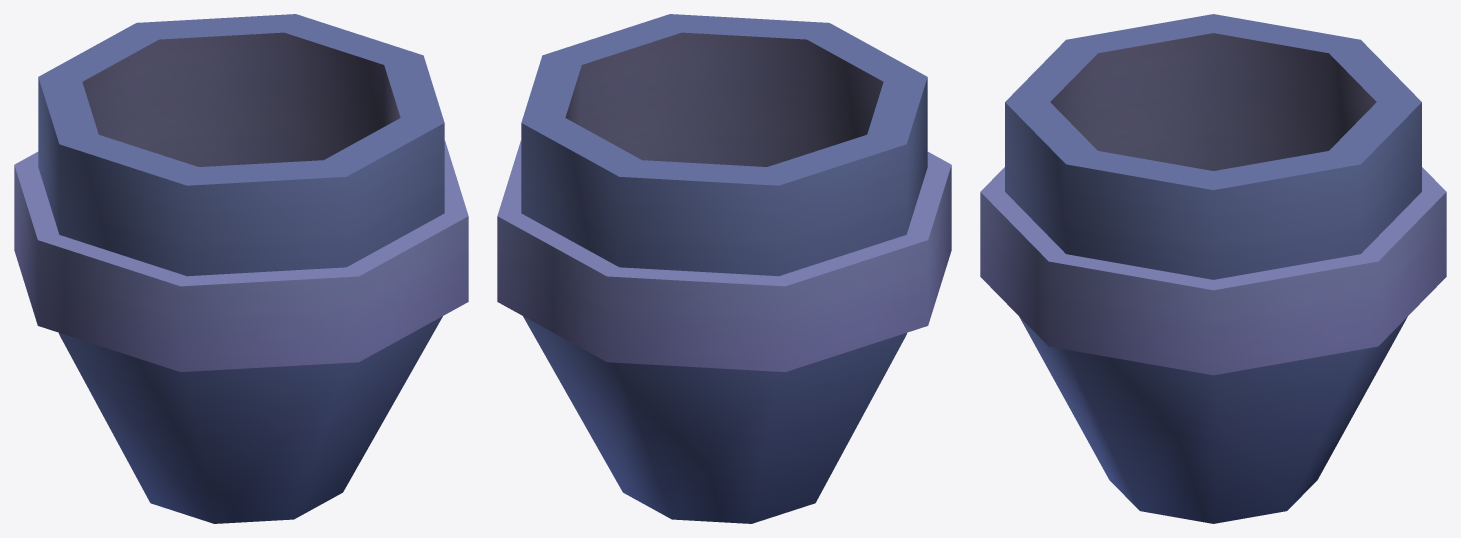
Rendered from tratt.glb.
The picture shows the model from 3 angles, left to right: view 1: azimuth 30°, elevation 25°; view 2: azimuth 150°, elevation 25°; view 3: azimuth 270°, elevation 25°; orthographic projection.
Parts seen in each view (by area): view 1: hopper-round; view 2: hopper-round; view 3: hopper-round.
Boxes of the visible parts, left/top/right/bottom form: hopper-round: left=14, top=14, right=468, bottom=523; hopper-round: left=497, top=14, right=951, bottom=523; hopper-round: left=980, top=14, right=1446, bottom=523.
Bounding box in the file's own units: 1.12 × 1 × 1.12.
Materials: 1 (1 with a texture image).
